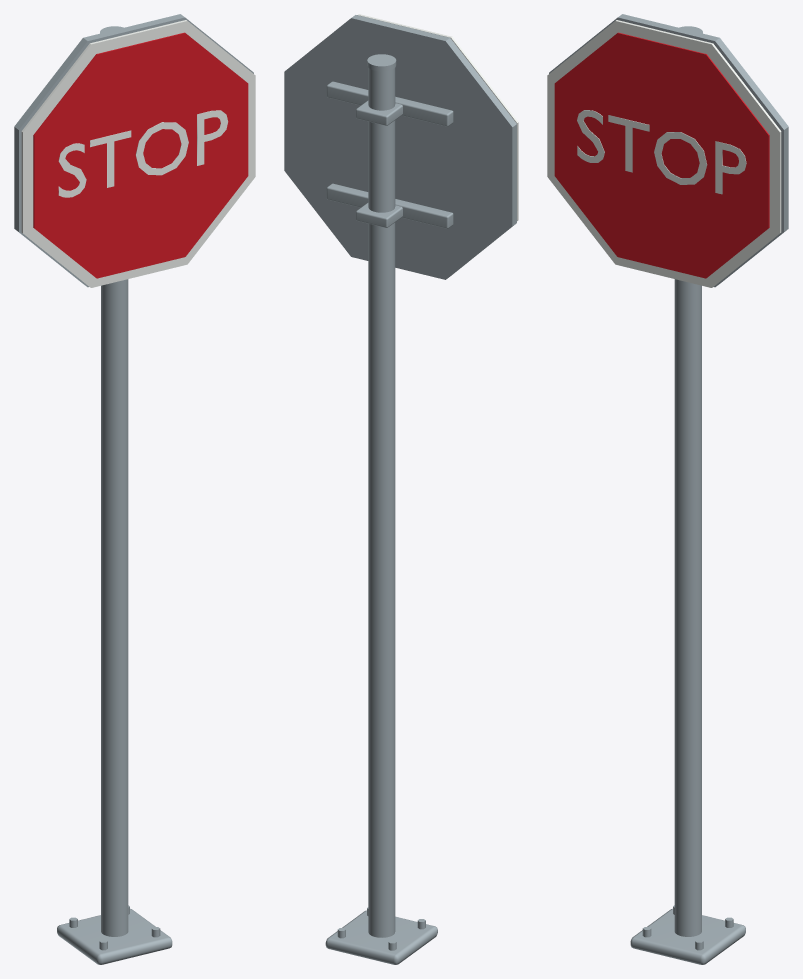
The model's file is DS_Sign_Stop.fbx.
The picture shows the model from 3 angles, left to right: view 1: azimuth 30°, elevation 25°; view 2: azimuth 150°, elevation 25°; view 3: azimuth 330°, elevation 25°; orthographic projection. The views are drawn at different scales.
Visible parts, largest first — view 1: Face_Field, Post, Face_Border, Legend_STOP, BasePlate, Plate_Back; view 2: Plate_Back, Post, BasePlate, RearRail, RearRail.001, Face_Border, PostClamp, PostClamp.001; view 3: Face_Field, Post, Face_Border, Legend_STOP, BasePlate, Plate_Back.
Boxes of the visible parts, x1,y1,x2,y2 form: Face_Field: [33, 32, 248, 278]; Post: [101, 279, 128, 936]; Face_Border: [21, 20, 255, 287]; Legend_STOP: [58, 110, 228, 197]; BasePlate: [57, 908, 172, 964]; Plate_Back: [14, 14, 253, 287]; Plate_Back: [284, 15, 516, 279]; Post: [368, 68, 395, 937]; BasePlate: [325, 910, 437, 964]; RearRail: [326, 183, 453, 228]; RearRail.001: [326, 81, 453, 126]; Face_Border: [357, 14, 518, 220]; PostClamp: [356, 202, 402, 227]; PostClamp.001: [356, 100, 402, 125]; Face_Field: [554, 32, 769, 278]; Post: [674, 279, 701, 936]; Face_Border: [547, 20, 781, 287]; Legend_STOP: [577, 110, 746, 194]; BasePlate: [630, 908, 745, 964]; Plate_Back: [549, 14, 788, 287].
Size of the model in its own units: 74.83 by 282 by 27.27.
